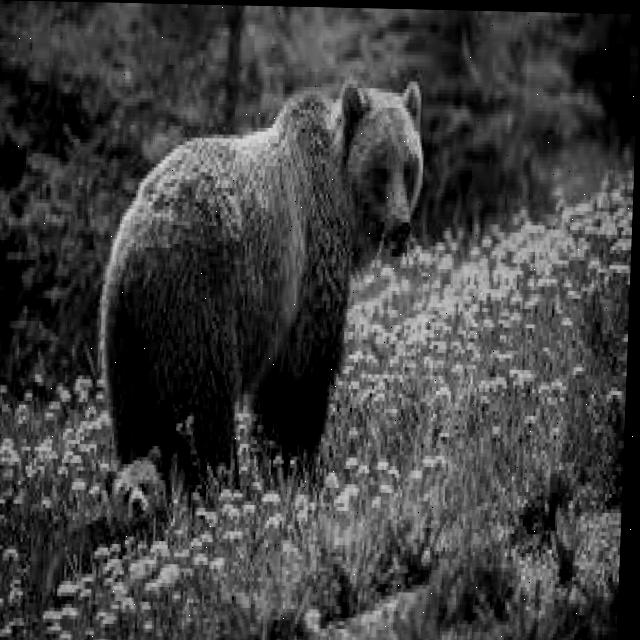Bear: (80, 70, 434, 424), (62, 455, 173, 599)
